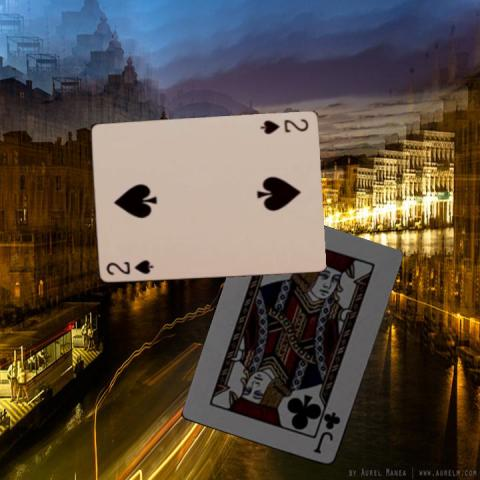2s: (257, 116, 310, 136), (102, 257, 154, 277)
Jc: (312, 409, 342, 455)
